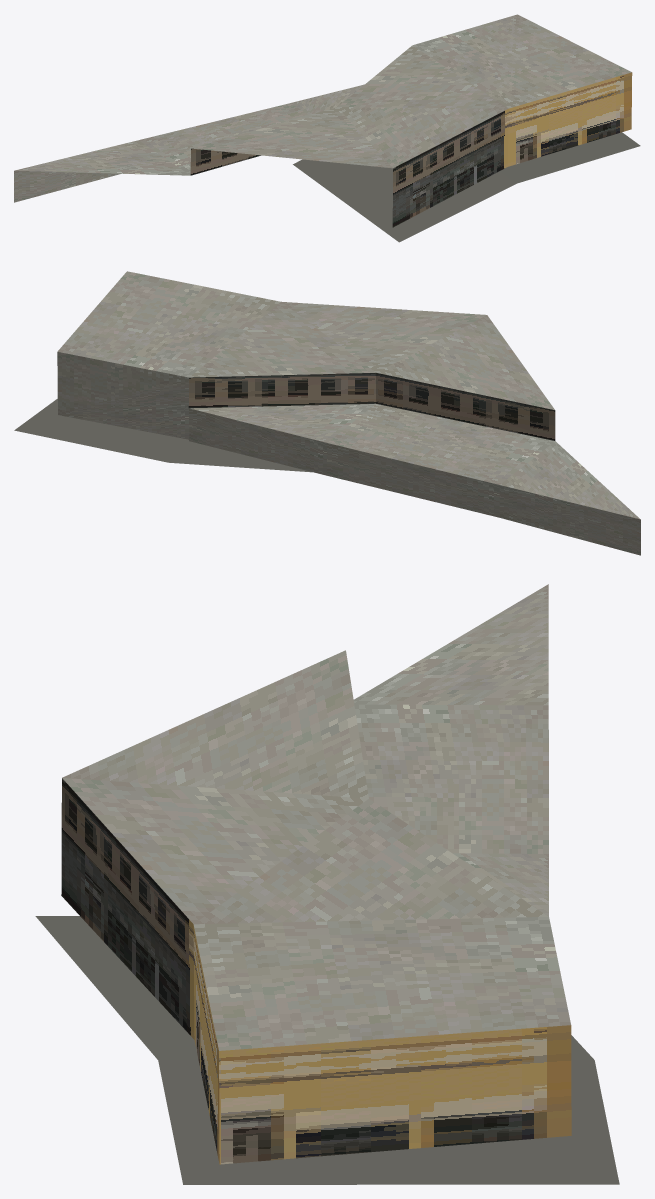
The model's file is lodoffvensp03_law.obj.
3 views of the same model, one above another, from view 1: azimuth 30°, elevation 25°; view 2: azimuth 150°, elevation 25°; view 3: azimuth 270°, elevation 25° (orthographic). The views are drawn at different scales.
Visible parts, largest first — view 1: LODoffvensp03_law; view 2: LODoffvensp03_law; view 3: LODoffvensp03_law.
Part boxes in pixels (x1,y1,x2,y2): LODoffvensp03_law: (14, 14, 640, 242); LODoffvensp03_law: (14, 271, 640, 555); LODoffvensp03_law: (35, 584, 619, 1184).
Size of the model in its own units: 77.27 by 9.55 by 36.5.
2 materials, 2 textured.
